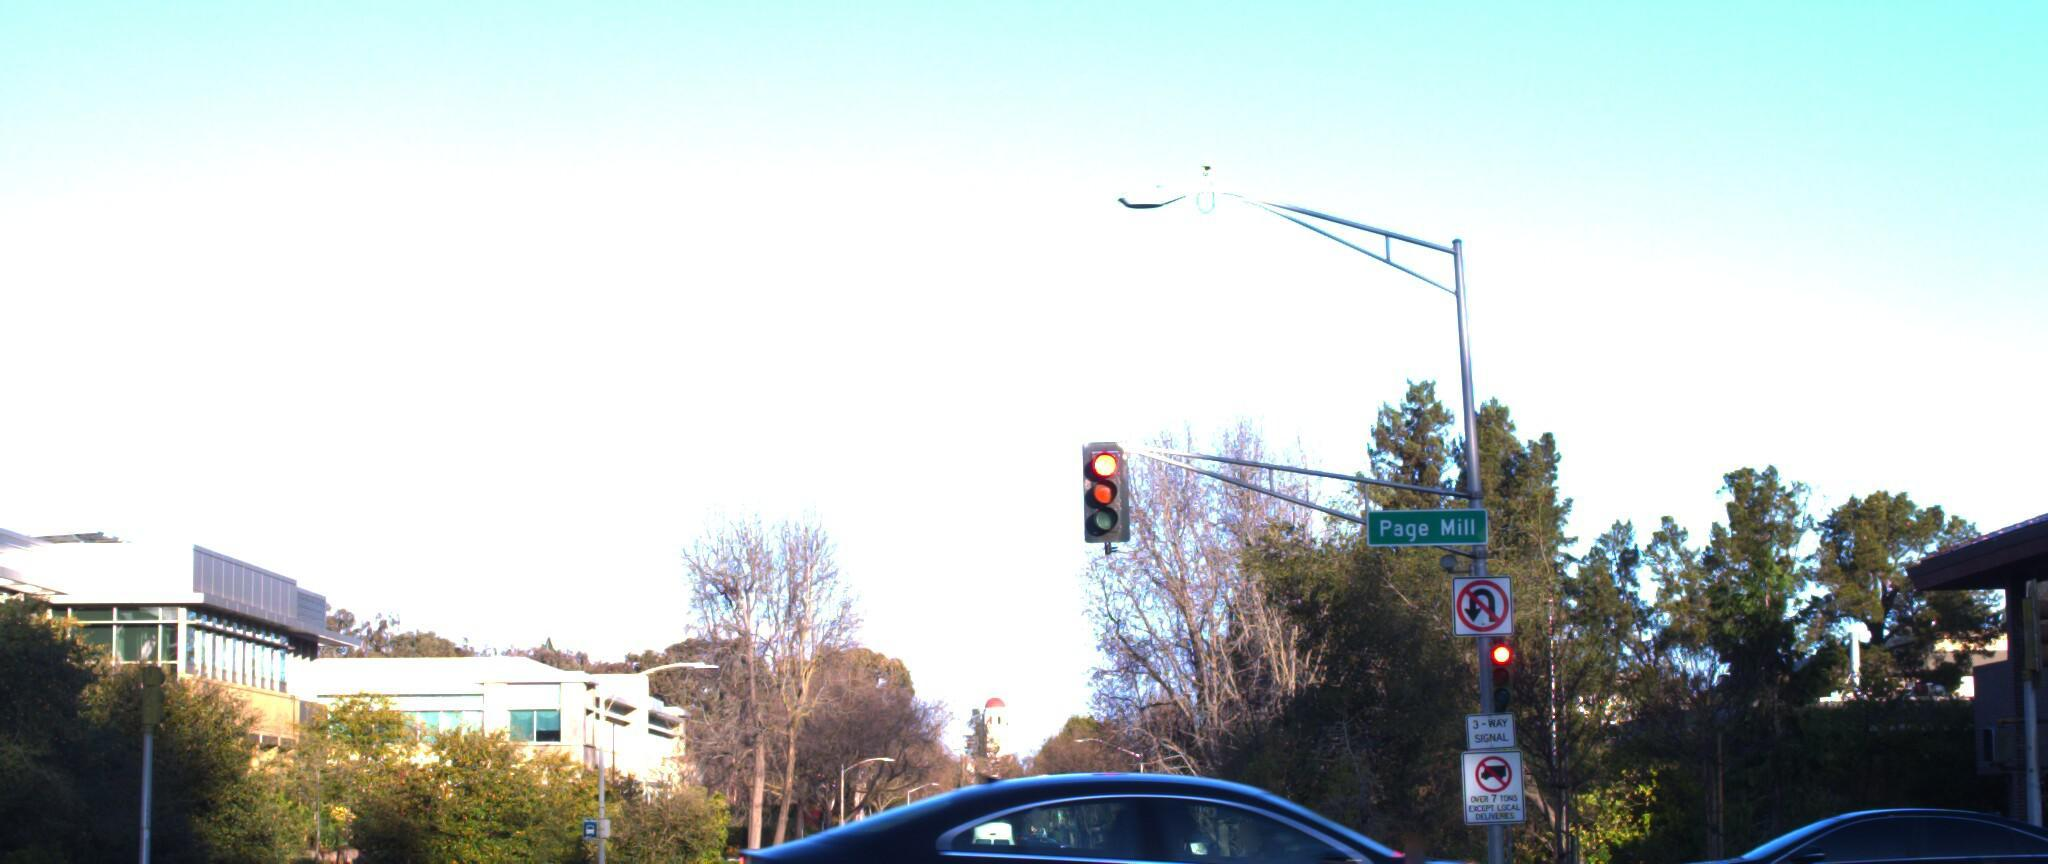car: (718, 760, 1676, 864), (1546, 804, 2048, 864)
